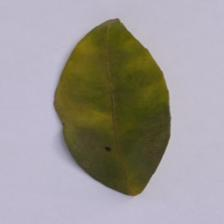greening: (47, 11, 184, 202)
